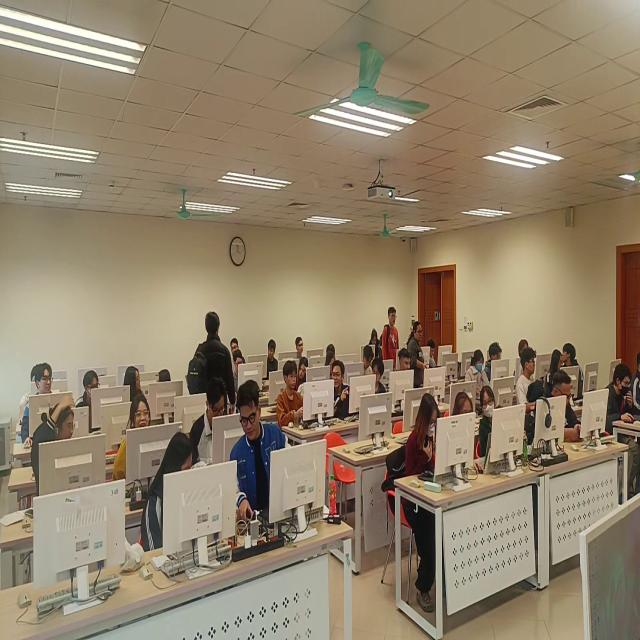raise_hand: (32, 398, 77, 513)
raise_head: (113, 395, 151, 487), (22, 364, 54, 451), (519, 340, 532, 361), (296, 338, 306, 361)
stand: (187, 311, 236, 416), (407, 322, 427, 389), (383, 306, 401, 373), (369, 326, 381, 356)
using_computer: (230, 380, 289, 528), (141, 432, 195, 556), (191, 377, 226, 467), (405, 394, 439, 478), (549, 369, 586, 446), (479, 385, 508, 465), (605, 363, 633, 432), (19, 364, 43, 426), (464, 349, 492, 402), (76, 370, 102, 410), (546, 350, 564, 389), (630, 349, 640, 419), (453, 390, 475, 420), (486, 343, 503, 380), (361, 345, 375, 378), (233, 351, 244, 393), (427, 338, 440, 368), (297, 357, 309, 387), (399, 345, 412, 372), (326, 353, 336, 369), (326, 343, 337, 357)
using_phone: (278, 361, 305, 429)
